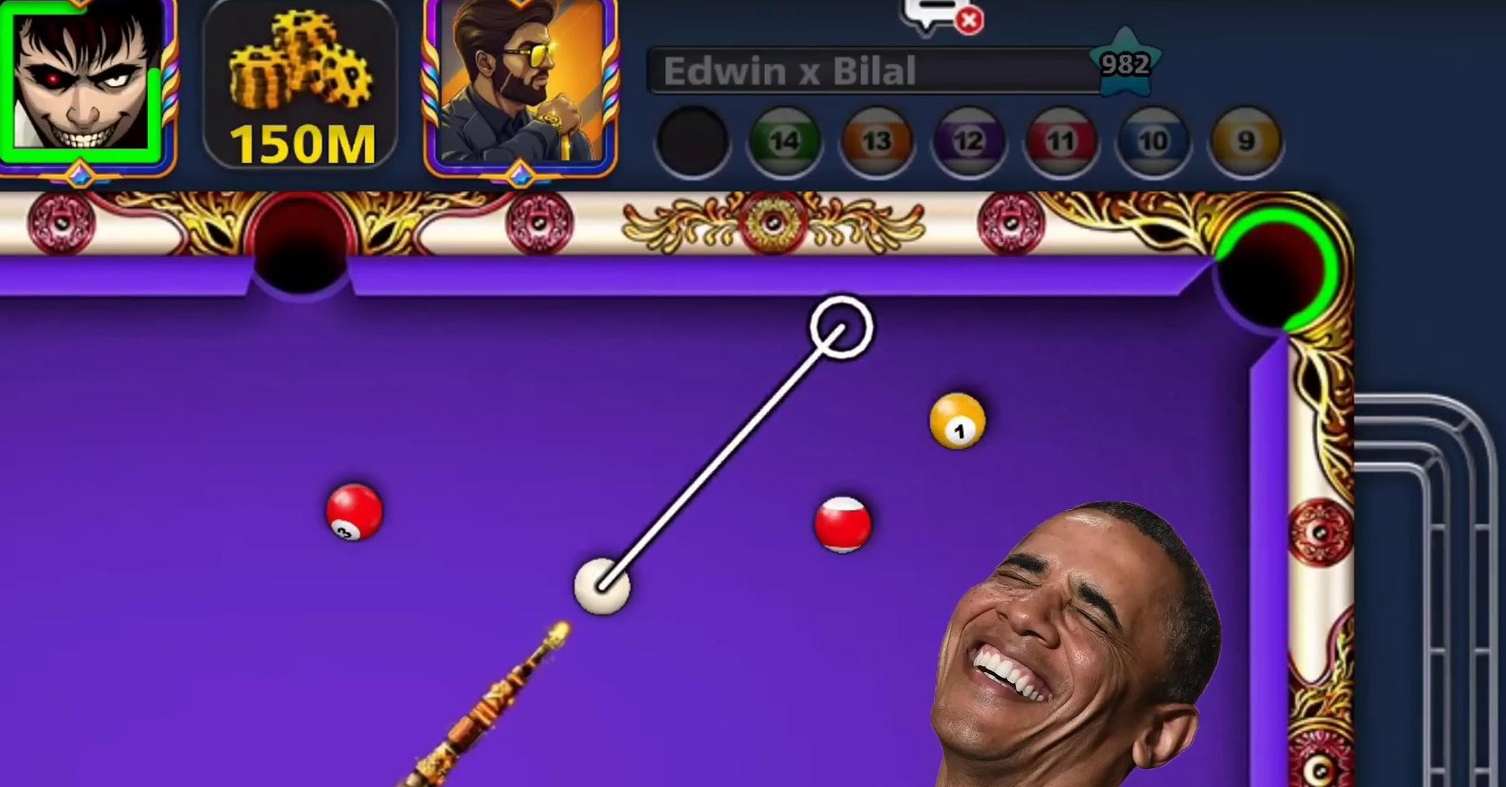Ball: (311, 472, 394, 555), (804, 491, 881, 555), (921, 389, 994, 453)
Guideline: (574, 295, 876, 600)
Hole: (1182, 181, 1360, 355), (236, 184, 367, 327)
White: (562, 545, 644, 622)
